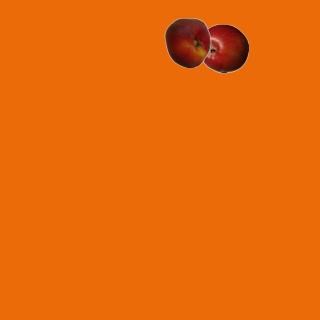Apple Braeburn: (198, 23, 248, 73)
Nectarine Flat: (162, 17, 212, 67)
